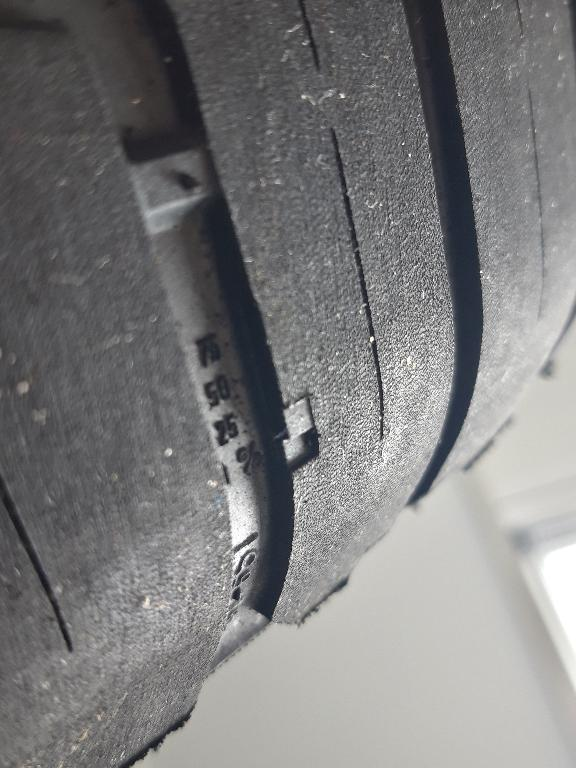temoin:25: (256, 384, 336, 494)
